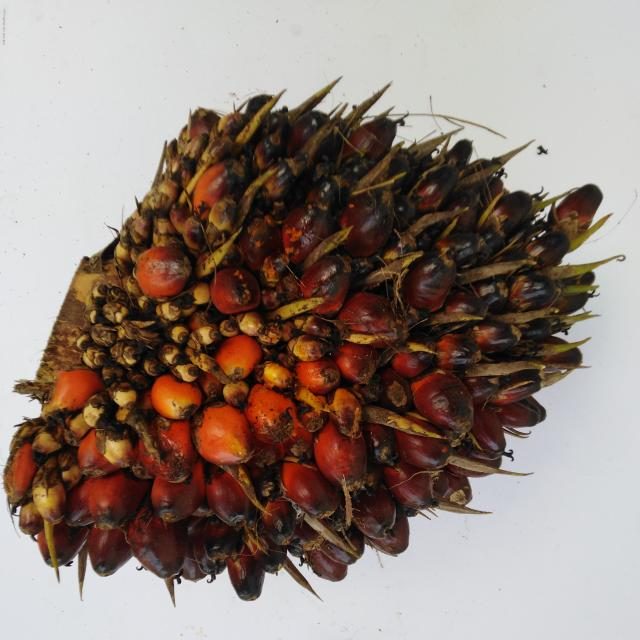FFB: (40, 99, 583, 576)
